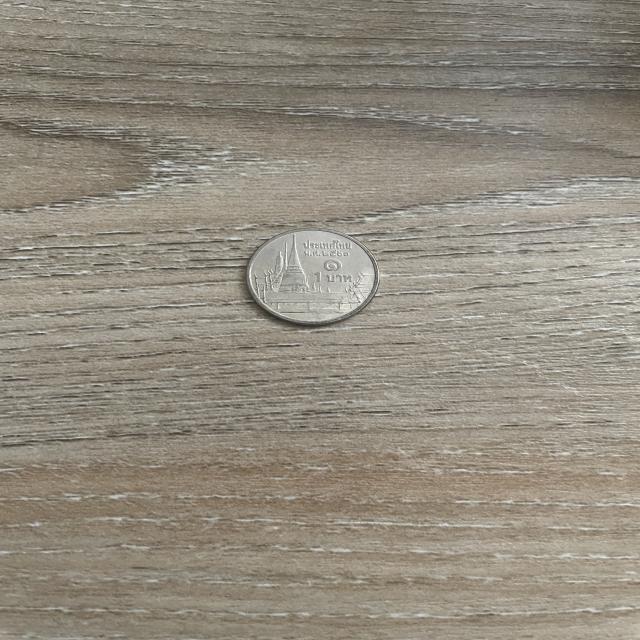1 Bath: (236, 222, 390, 330)
